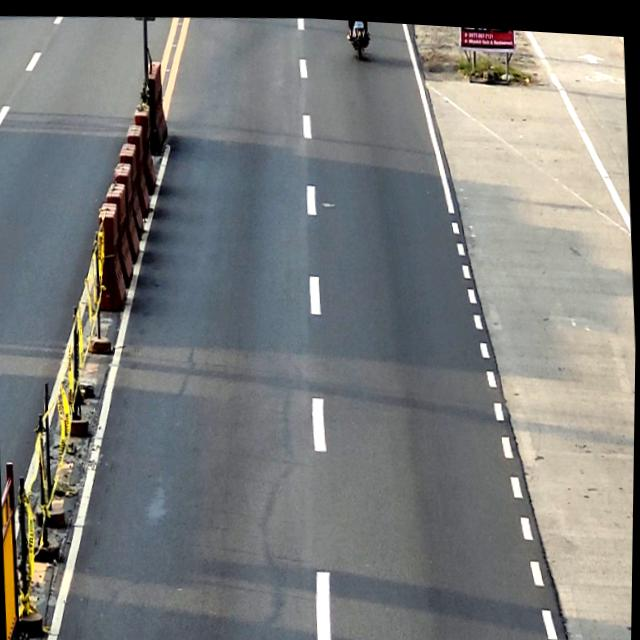License-Plate: (354, 17, 363, 24)
Motorcycle: (349, 16, 369, 56)
